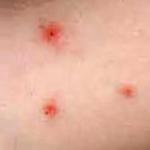Ants: (39, 21, 64, 47), (39, 97, 64, 122), (115, 80, 136, 97)
